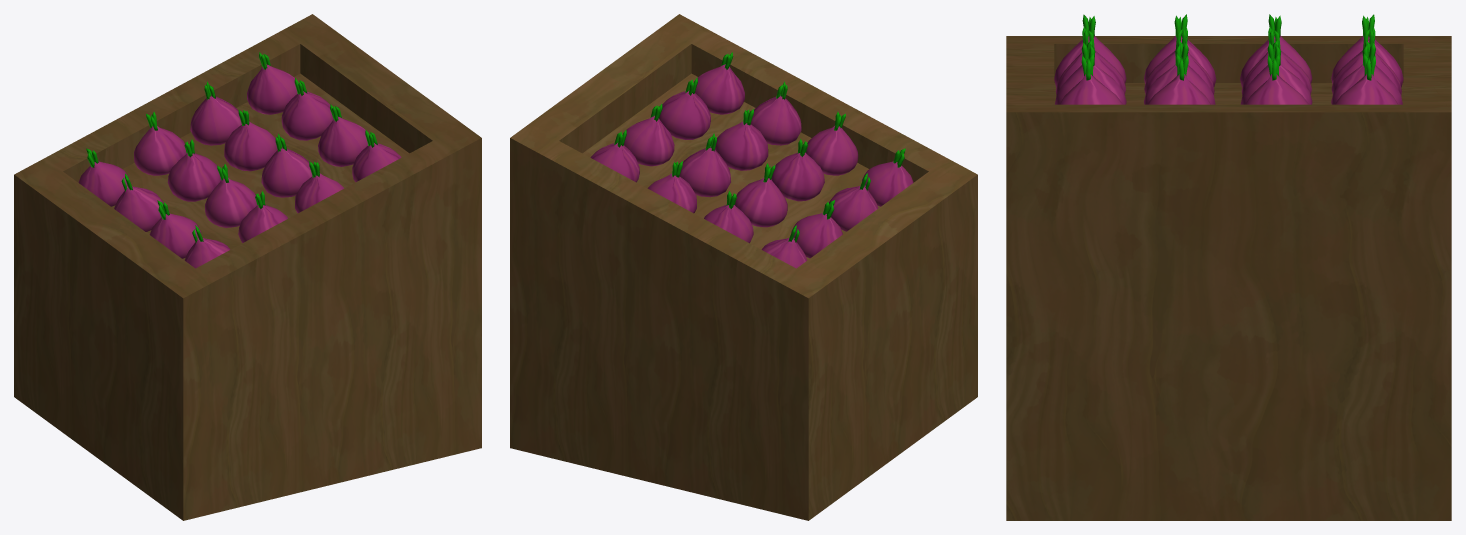
Rendered from CEBOLLA_SPAWNER.fbx.
The picture shows the model from 3 angles, left to right: view 1: azimuth 30°, elevation 25°; view 2: azimuth 150°, elevation 25°; view 3: azimuth 270°, elevation 25°; orthographic projection. The views are drawn at different scales.
Visible parts, largest first — view 1: CEBOLLA_SPAWNER_PRP; view 2: CEBOLLA_SPAWNER_PRP; view 3: CEBOLLA_SPAWNER_PRP.
Part boxes in pixels (x1,y1,x2,y2): CEBOLLA_SPAWNER_PRP: (14,14,481,520); CEBOLLA_SPAWNER_PRP: (510,14,977,520); CEBOLLA_SPAWNER_PRP: (1006,14,1451,520).
Bounding box in the file's own units: 47.33 × 47.69 × 46.47.
3 materials, 2 textured.
